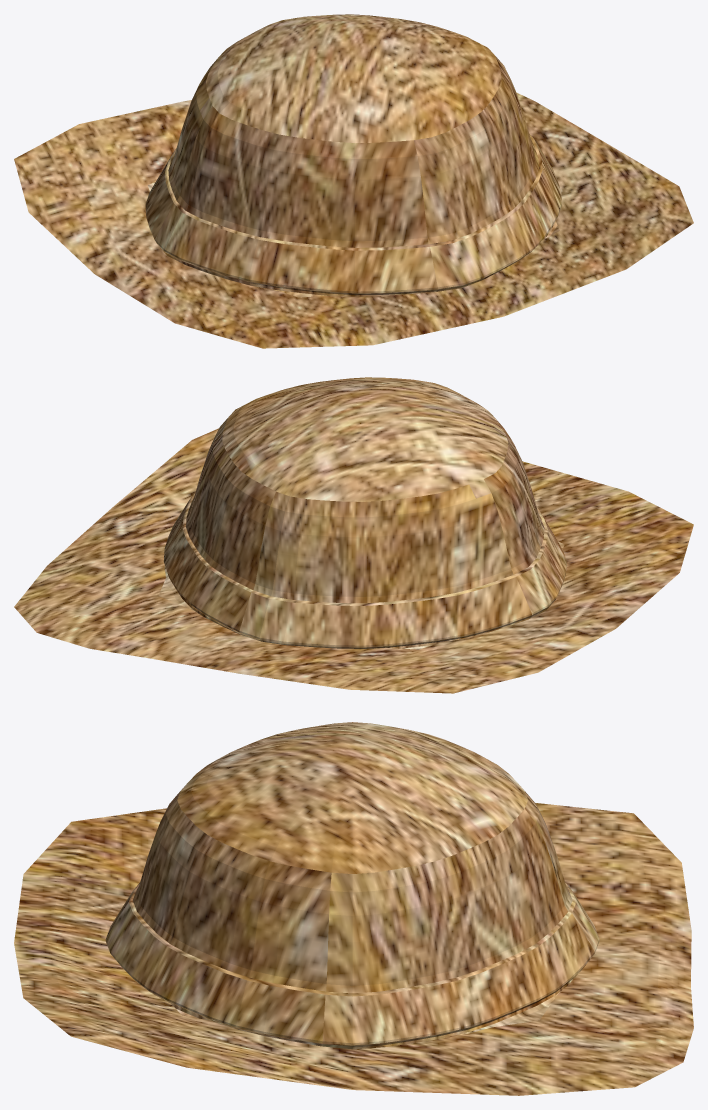
File: Hat 02 .fbx
3 views of the same model, one above another, from view 1: azimuth 30°, elevation 25°; view 2: azimuth 150°, elevation 25°; view 3: azimuth 270°, elevation 25° (orthographic). The views are drawn at different scales.
Visible parts, largest first — view 1: Cube.002; view 2: Cube.002; view 3: Cube.002.
Part boxes in pixels (box(x1,y1,x2,y2)): Cube.002: box(14, 14, 693, 348); Cube.002: box(14, 377, 693, 693); Cube.002: box(14, 722, 693, 1095).
Bounding box in the file's own units: 46.94 × 16.07 × 47.13.
Materials: 1 (1 with a texture image).
